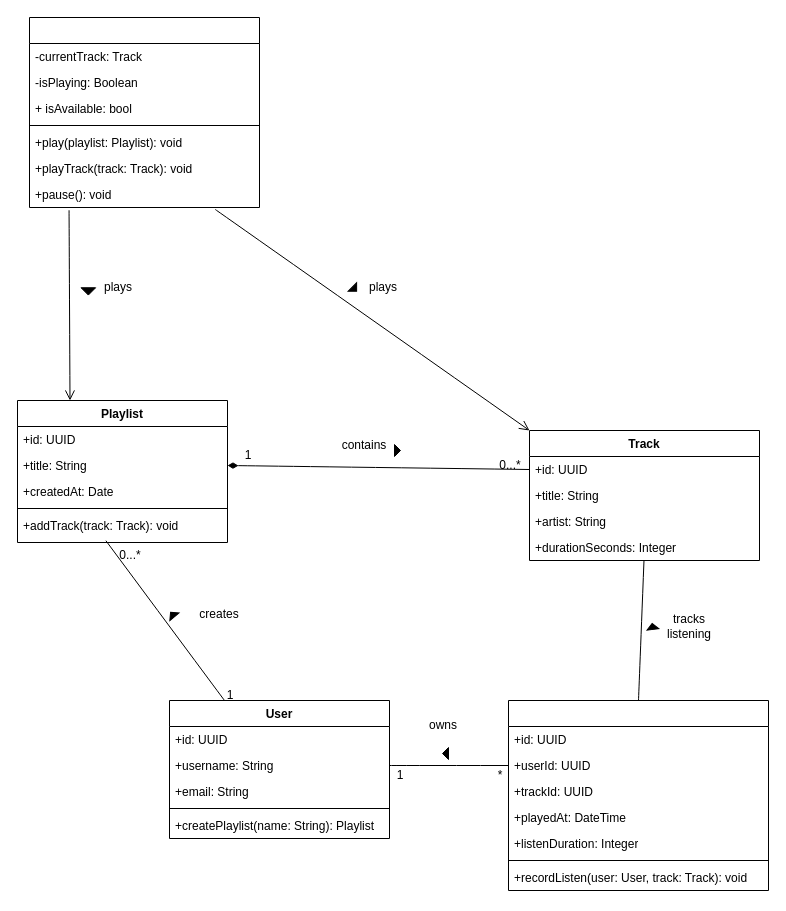
This 786x911 diagram has some shape labels left out. The shapes that lost their labels are listed below. From the top down, each one's box as (x1, y1, x2, y2) in pixels, then its label:
(28, 16, 260, 208): Player
(508, 700, 768, 890): PlaybackStatistics
